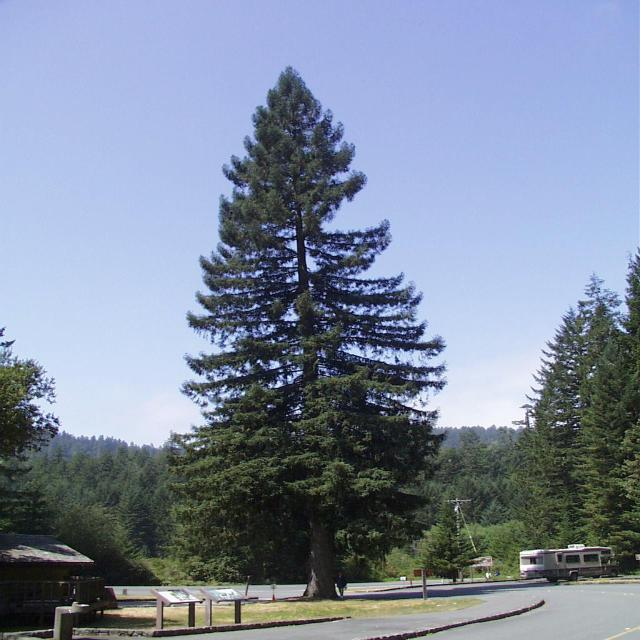Sequoia sempervirens: (166, 62, 445, 600)
